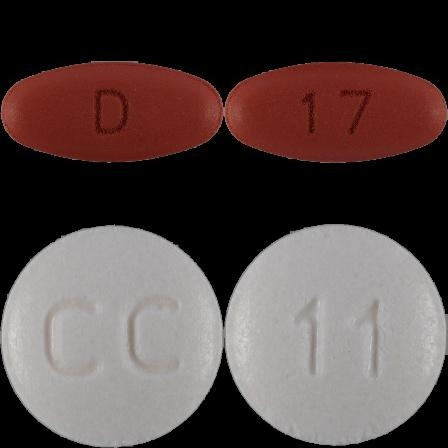65862-620: (0, 0, 224, 224)
